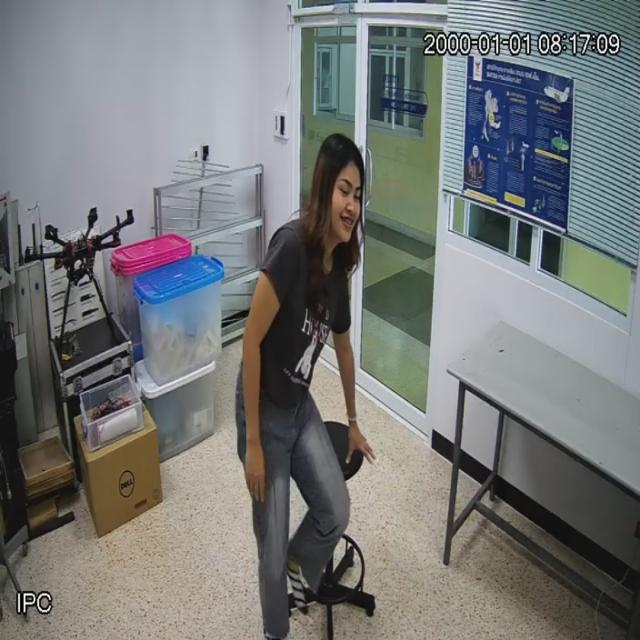normal: (234, 128, 382, 640)
